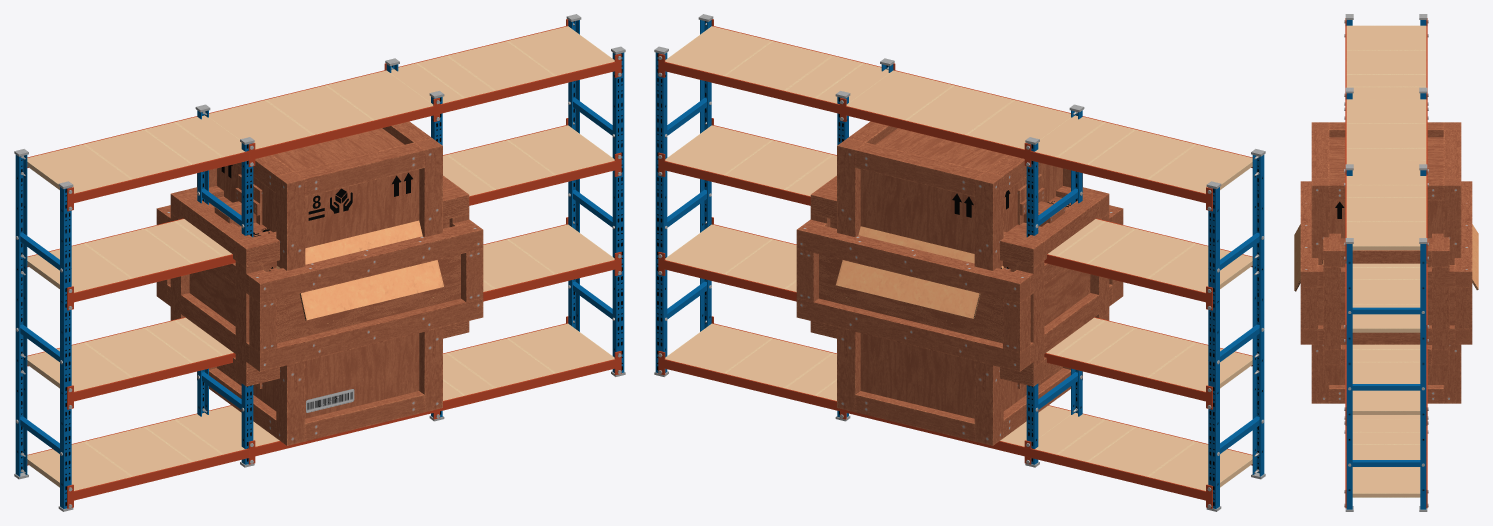
Rendered from Packages.fbx.
The picture shows the model from 3 angles, left to right: view 1: azimuth 30°, elevation 25°; view 2: azimuth 150°, elevation 25°; view 3: azimuth 270°, elevation 25°; orthographic projection. The views are drawn at different scales.
Visible parts, largest first — view 1: Shelf_Long, Crate_5, Crate_9, Shelf, Crate_2, CardboardBox_7; view 2: Shelf_Long, Crate_5, Crate_9, Shelf, Crate_2, CardboardBox_7; view 3: Shelf_Long, Crate_5, Crate_9, Shelf, Crate_2, CardboardBox_7.
Boxes of the visible parts, <box> form: Shelf_Long: <box>14,14,625,511</box>; Crate_5: <box>197,121,442,445</box>; Crate_9: <box>156,205,483,371</box>; Shelf: <box>195,58,444,467</box>; Crate_2: <box>170,175,469,386</box>; CardboardBox_7: <box>276,220,443,320</box>; Shelf_Long: <box>654,14,1265,511</box>; Crate_5: <box>837,121,1082,445</box>; Crate_9: <box>796,205,1123,371</box>; Shelf: <box>835,58,1084,467</box>; Crate_2: <box>810,175,1109,386</box>; CardboardBox_7: <box>836,226,1003,318</box>; Shelf_Long: <box>1344,14,1428,511</box>; Crate_5: <box>1311,122,1461,403</box>; Crate_9: <box>1300,181,1472,344</box>; Shelf: <box>1344,87,1428,433</box>; Crate_2: <box>1323,233,1449,365</box>; CardboardBox_7: <box>1294,224,1478,291</box>.
Size of the model in its own units: 5.94 by 3.28 by 2.03.
